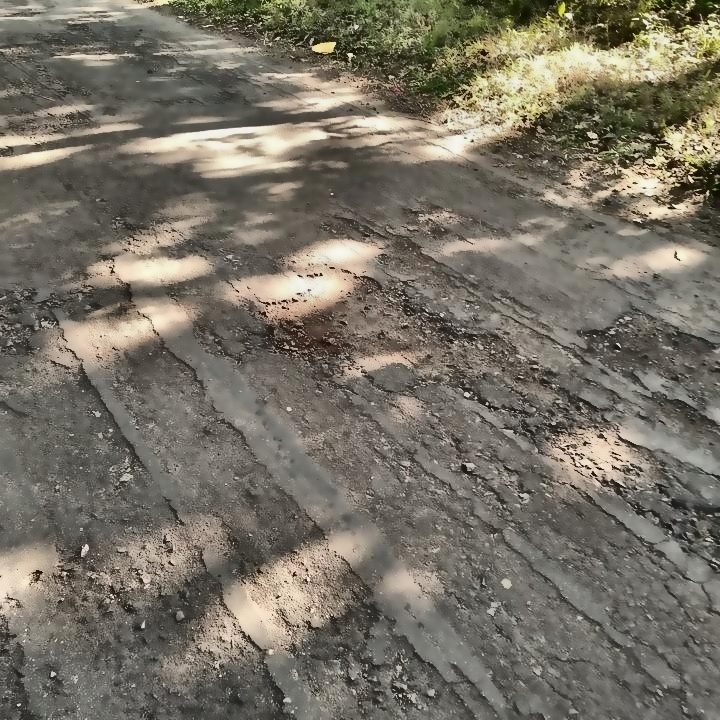pothole: (263, 264, 469, 381), (577, 307, 719, 384)
